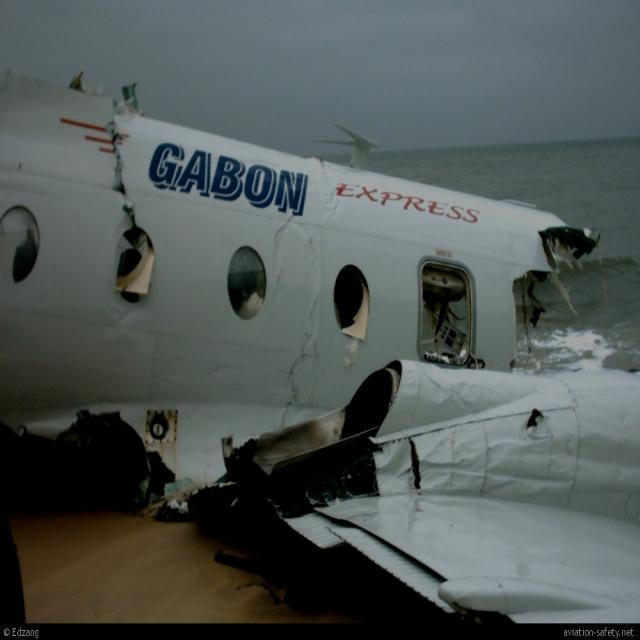crack: (280, 291, 326, 434), (102, 112, 141, 232), (272, 208, 309, 256), (409, 435, 427, 491), (319, 154, 338, 200)
